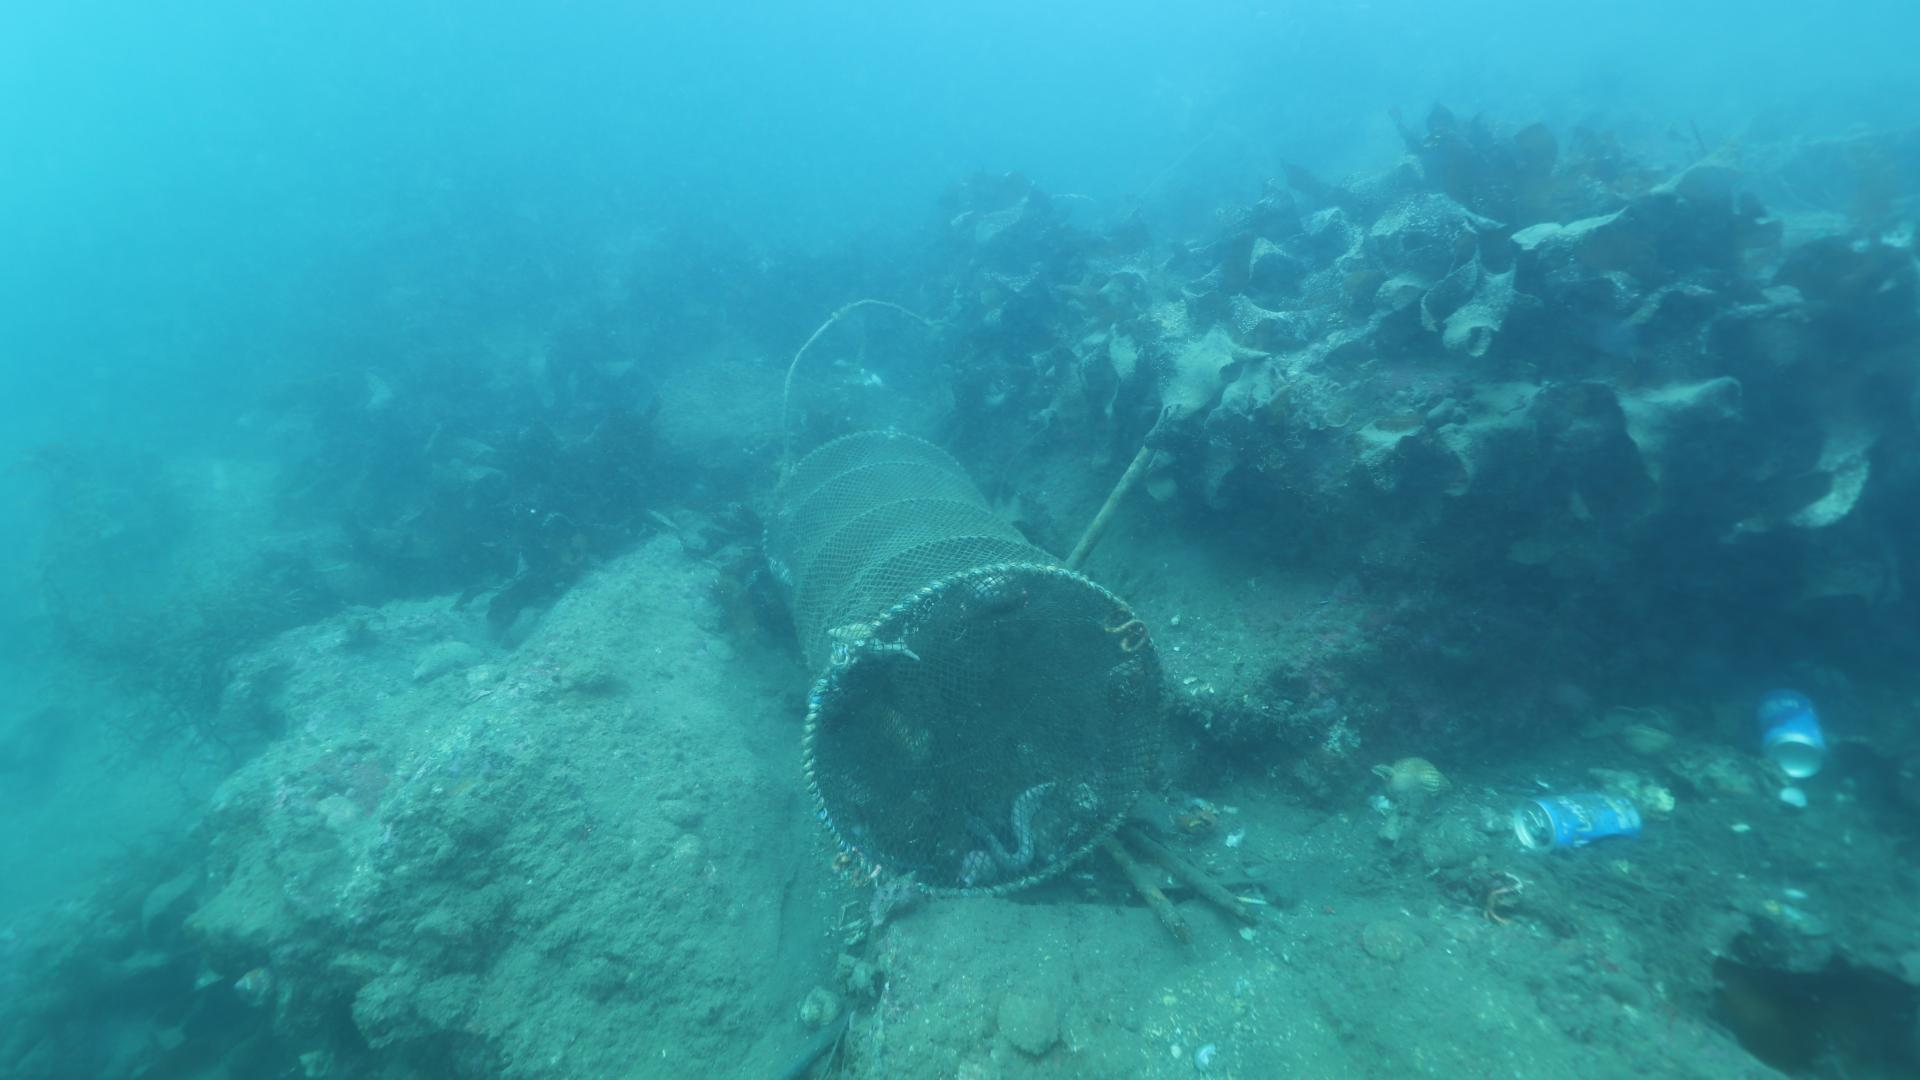spring fish trap: (758, 422, 1168, 903)
